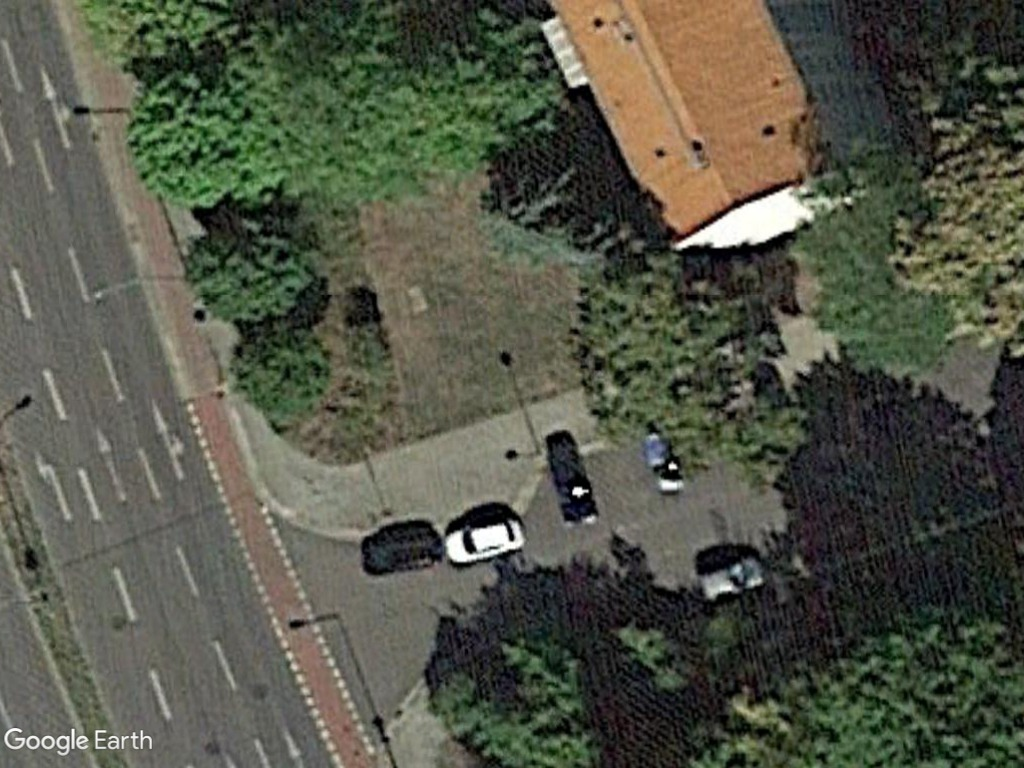car: (430, 505, 533, 573)
